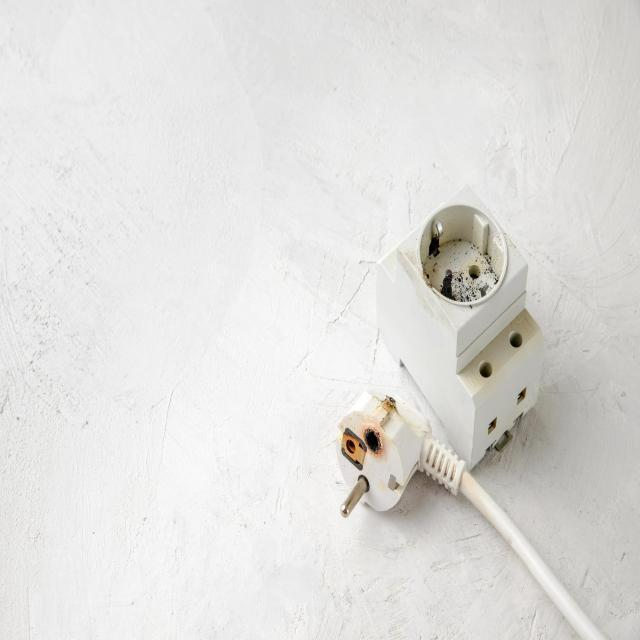typeb: (359, 133, 580, 436)
